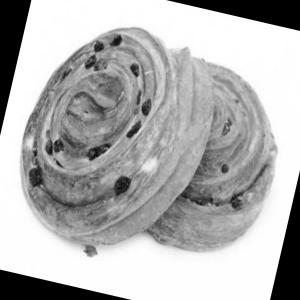bread: (5, 5, 294, 283)
